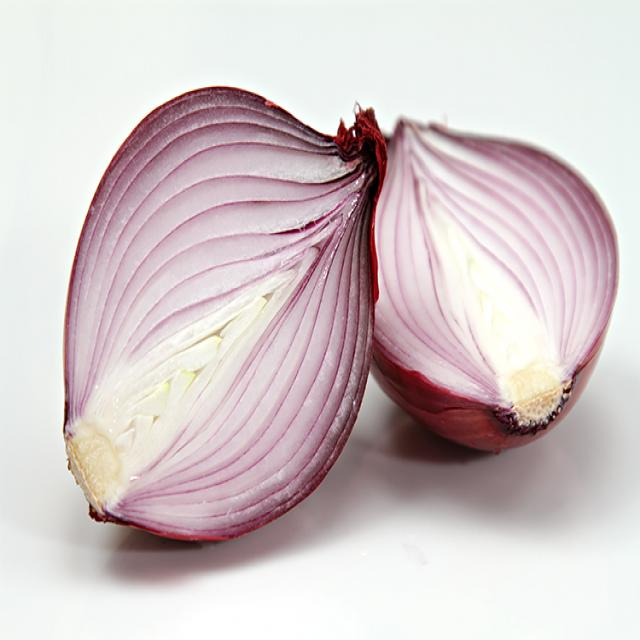onion: (59, 81, 376, 548), (389, 106, 624, 454)
